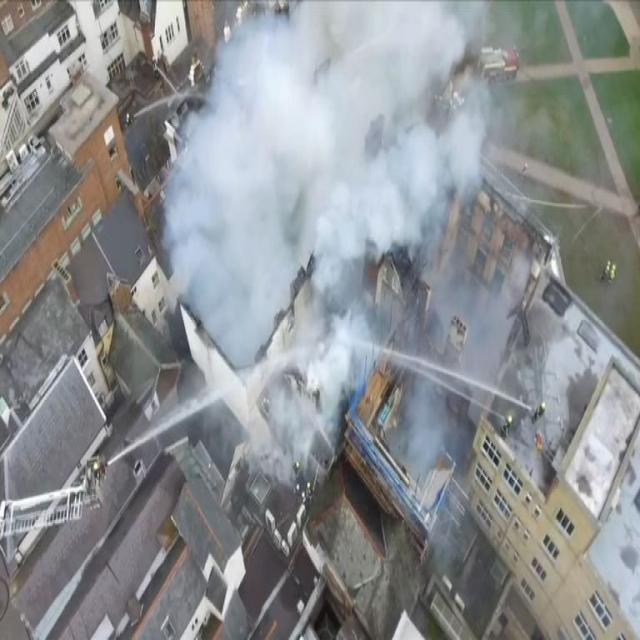Smoke: (143, 0, 502, 429)
